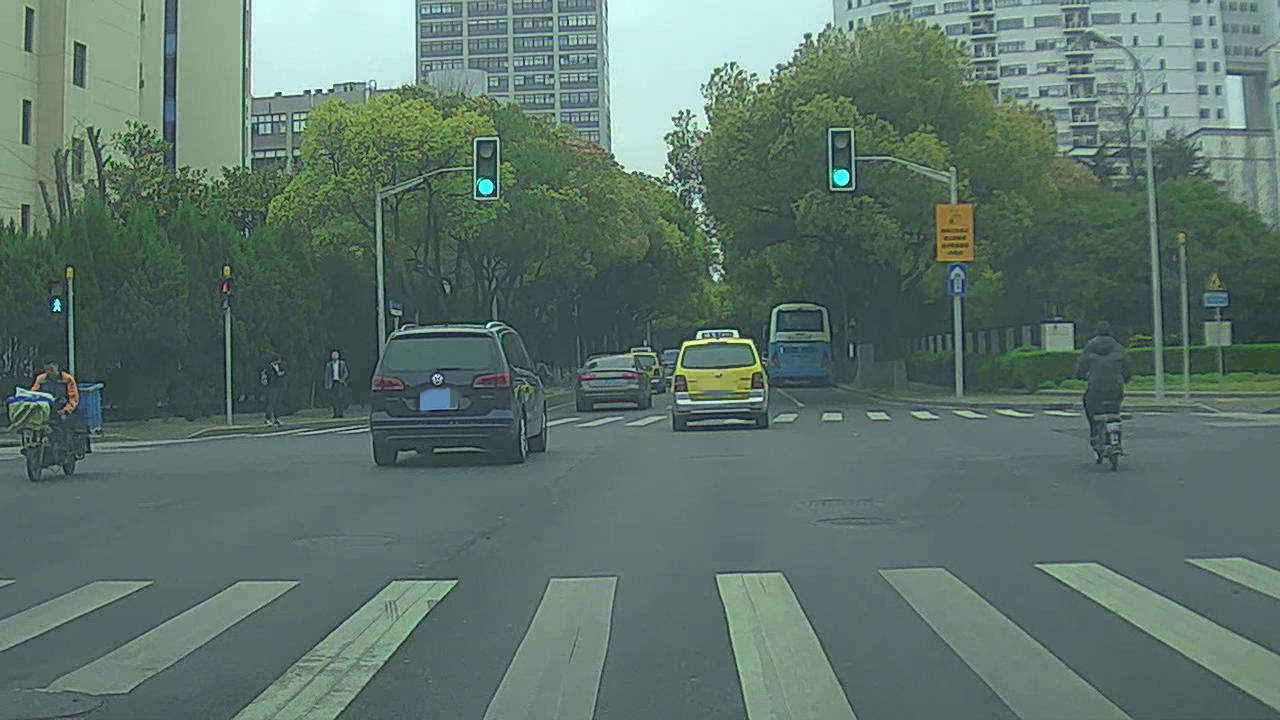traffic_light: (473, 139, 501, 202), (828, 129, 855, 191)
